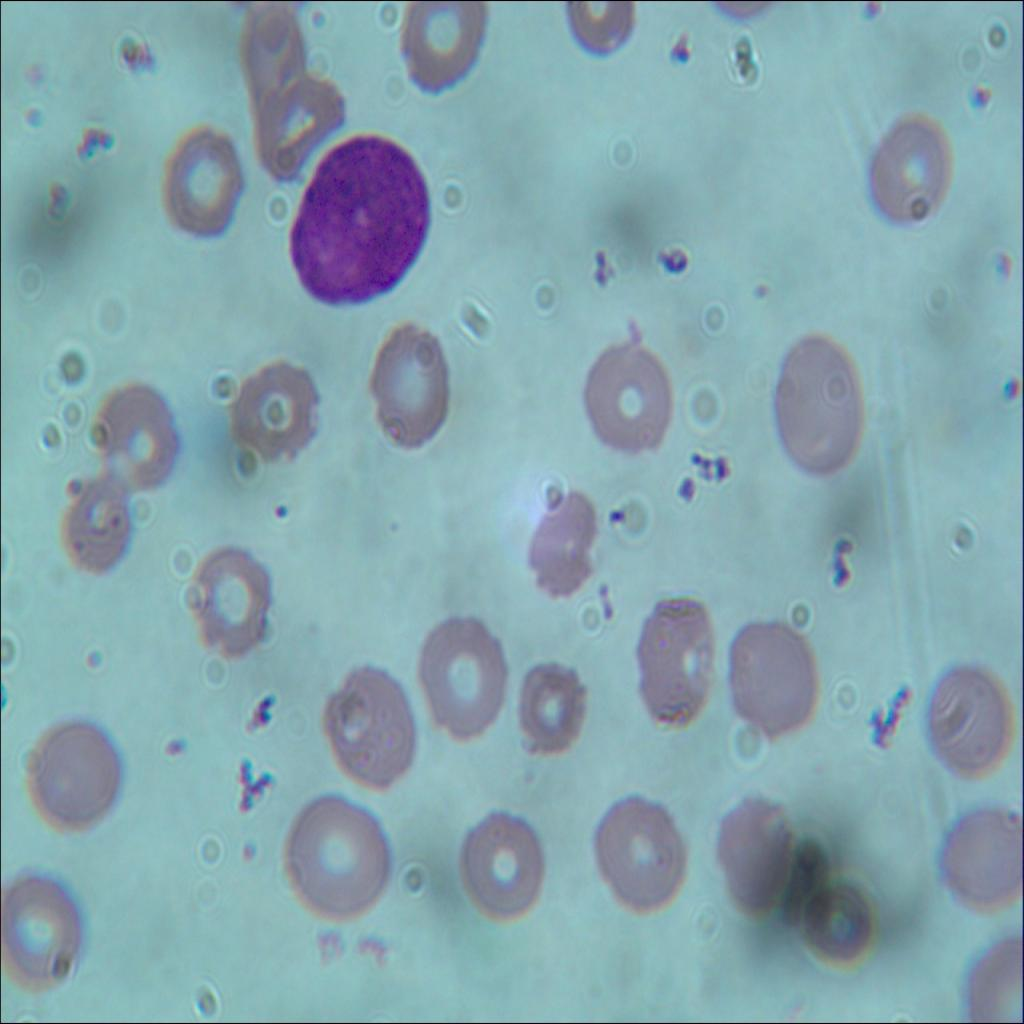Eritrosit: (271, 794, 393, 927), (776, 332, 870, 482), (316, 671, 422, 799), (359, 321, 459, 454), (861, 114, 968, 237), (728, 612, 829, 737), (413, 605, 510, 734), (918, 651, 1023, 768), (458, 807, 556, 928), (29, 721, 131, 837), (631, 594, 719, 725), (594, 798, 686, 920), (586, 335, 672, 461), (0, 874, 82, 1002), (153, 130, 243, 244), (223, 352, 319, 458), (253, 75, 348, 181), (186, 547, 279, 654), (94, 381, 182, 494), (395, 0, 479, 115), (50, 474, 141, 577), (710, 796, 792, 906), (526, 488, 608, 598), (943, 794, 1023, 906), (788, 861, 874, 962), (238, 14, 310, 101), (558, 0, 635, 78), (516, 665, 582, 752)
Limfoblast: (284, 132, 442, 317)
Platelet: (230, 815, 262, 882), (983, 242, 1023, 290), (259, 490, 298, 538), (746, 266, 778, 324), (996, 360, 1023, 426), (156, 722, 186, 776), (671, 468, 702, 518), (11, 94, 42, 141), (666, 28, 699, 71), (601, 494, 633, 528), (970, 80, 1000, 115), (24, 65, 55, 95), (856, 0, 888, 29)
